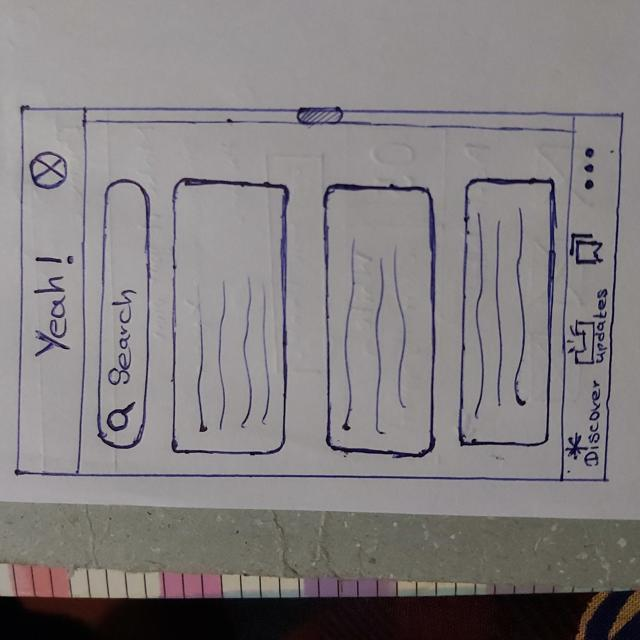AppBar: (16, 104, 83, 473)
BottomNavBar: (565, 111, 614, 481)
BottomNavItems: (568, 120, 618, 209), (565, 279, 612, 371), (564, 377, 608, 471), (563, 209, 613, 274)
CardView: (169, 172, 293, 458), (320, 181, 440, 461), (457, 175, 556, 450)
EditText: (97, 177, 151, 451)
Icon: (104, 399, 136, 435)
MainLayout: (10, 100, 621, 489)
MultiLineText: (337, 227, 414, 439), (470, 209, 538, 431), (187, 267, 275, 436)
RoundedImage: (28, 148, 73, 193)
ScrollBar: (84, 106, 573, 138)
ScrollView: (86, 106, 563, 478)
TextView: (28, 250, 75, 360)
